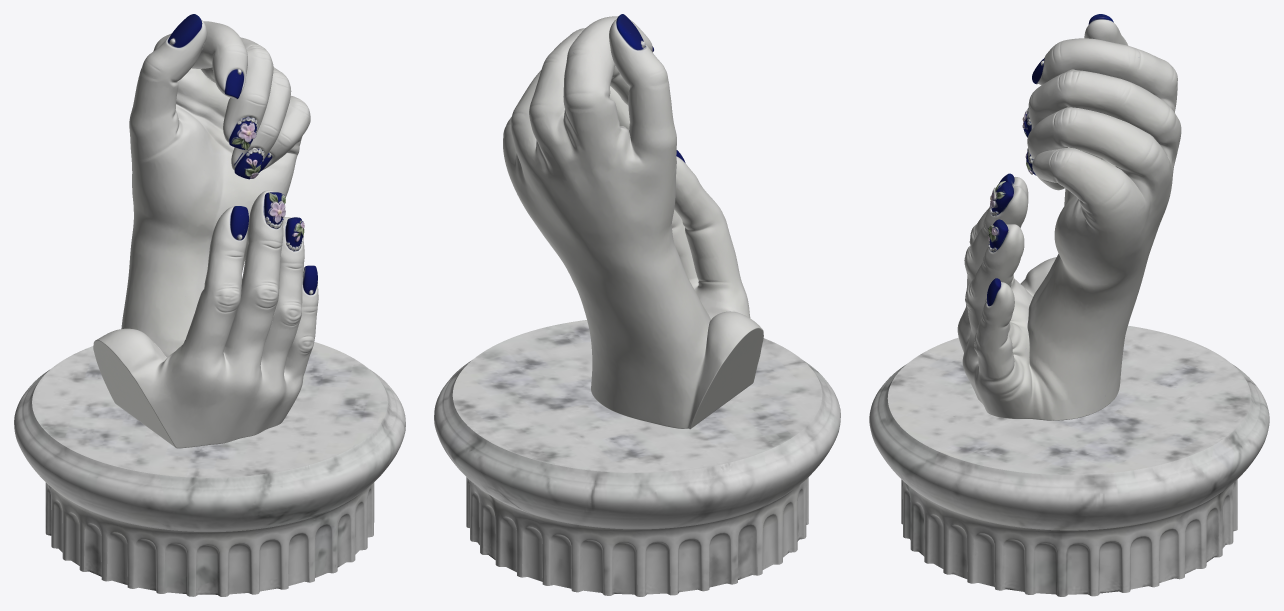
File: unas-demo.glb
3 views of the same model, side by side, from view 1: azimuth 30°, elevation 25°; view 2: azimuth 150°, elevation 25°; view 3: azimuth 270°, elevation 25° (orthographic). The views are drawn at different scales.
Visible parts, largest first — view 1: Mesh_0, Mesh_0.004; view 2: Mesh_0.004, Mesh_0; view 3: Mesh_0.004, Mesh_0.
Part boxes in pixels (x1,y1,x2,y2): Mesh_0: (93, 14, 318, 448); Mesh_0.004: (14, 342, 405, 596); Mesh_0.004: (434, 320, 840, 596); Mesh_0: (503, 14, 763, 429); Mesh_0.004: (869, 325, 1269, 596); Mesh_0: (957, 14, 1181, 420).
Size of the model in its own units: 1.79 by 2.53 by 1.79.
2 materials, 2 textured.
